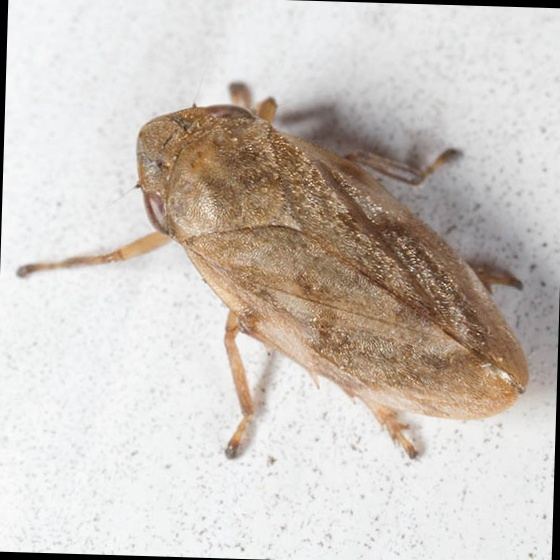Brown_hopper: (99, 80, 537, 467)
